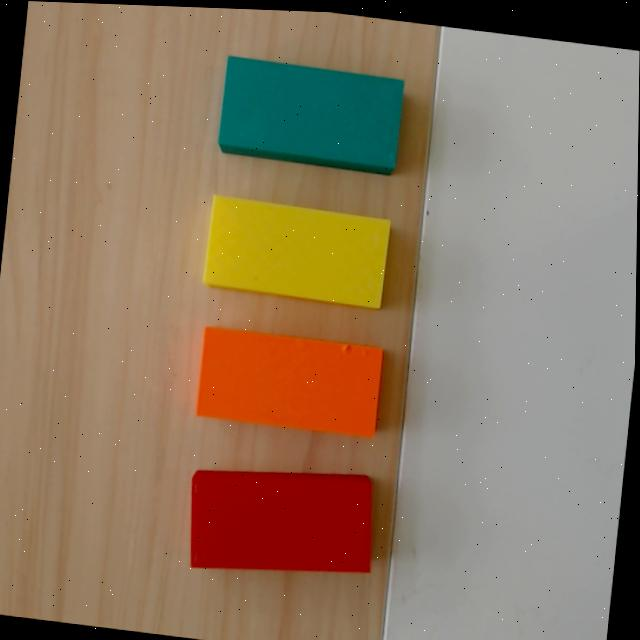Balok-Hijau-1005025: (213, 54, 406, 176)
Balok-Jingga-1005025: (193, 326, 384, 438)
Balok-Kuning-1005025: (200, 194, 391, 309)
Balok-Merah-1005025: (187, 469, 371, 574)
